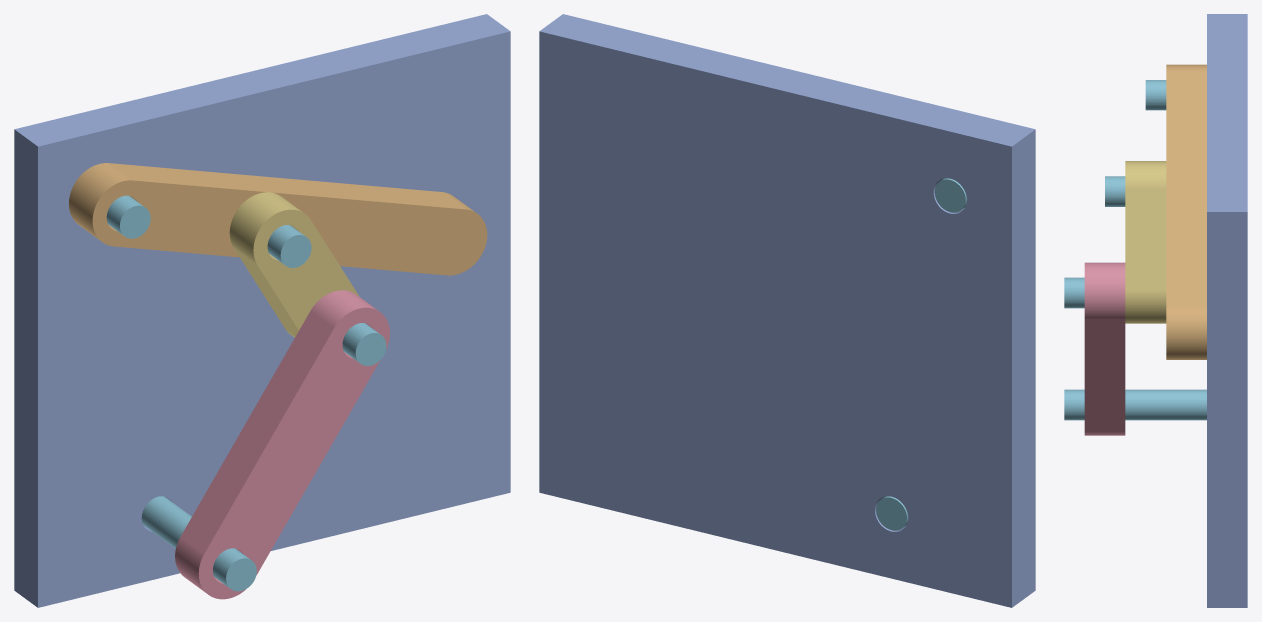
The model's file is toggle_clamp_demo.glb.
3 views of the same model, side by side, from view 1: azimuth 30°, elevation 25°; view 2: azimuth 150°, elevation 25°; view 3: azimuth 270°, elevation 25° (orthographic). The views are drawn at different scales.
Parts seen in each view (by area): view 1: base, clamp_arm, handle, connecting_link, pin_handle, pin_arm, pin_joint, pin_knee; view 2: base, pin_handle, pin_arm; view 3: base, clamp_arm, handle, connecting_link, pin_handle, pin_arm, pin_knee, pin_joint.
Part boxes in pixels (x1,y1,x2,y2): base: [14, 14, 510, 607]; clamp_arm: [69, 163, 487, 275]; handle: [175, 290, 389, 599]; connecting_link: [229, 192, 359, 337]; pin_handle: [141, 496, 256, 591]; pin_arm: [106, 195, 150, 238]; pin_joint: [267, 225, 311, 267]; pin_knee: [342, 323, 386, 365]; base: [539, 14, 1035, 607]; pin_handle: [876, 496, 908, 530]; pin_arm: [935, 178, 966, 212]; base: [1207, 14, 1247, 607]; clamp_arm: [1166, 64, 1206, 359]; handle: [1084, 262, 1125, 435]; connecting_link: [1125, 161, 1166, 323]; pin_handle: [1064, 389, 1206, 420]; pin_arm: [1145, 80, 1166, 110]; pin_knee: [1064, 277, 1084, 308]; pin_joint: [1105, 176, 1125, 206].
Size of the model in its own units: 46 by 42.91 by 18.
